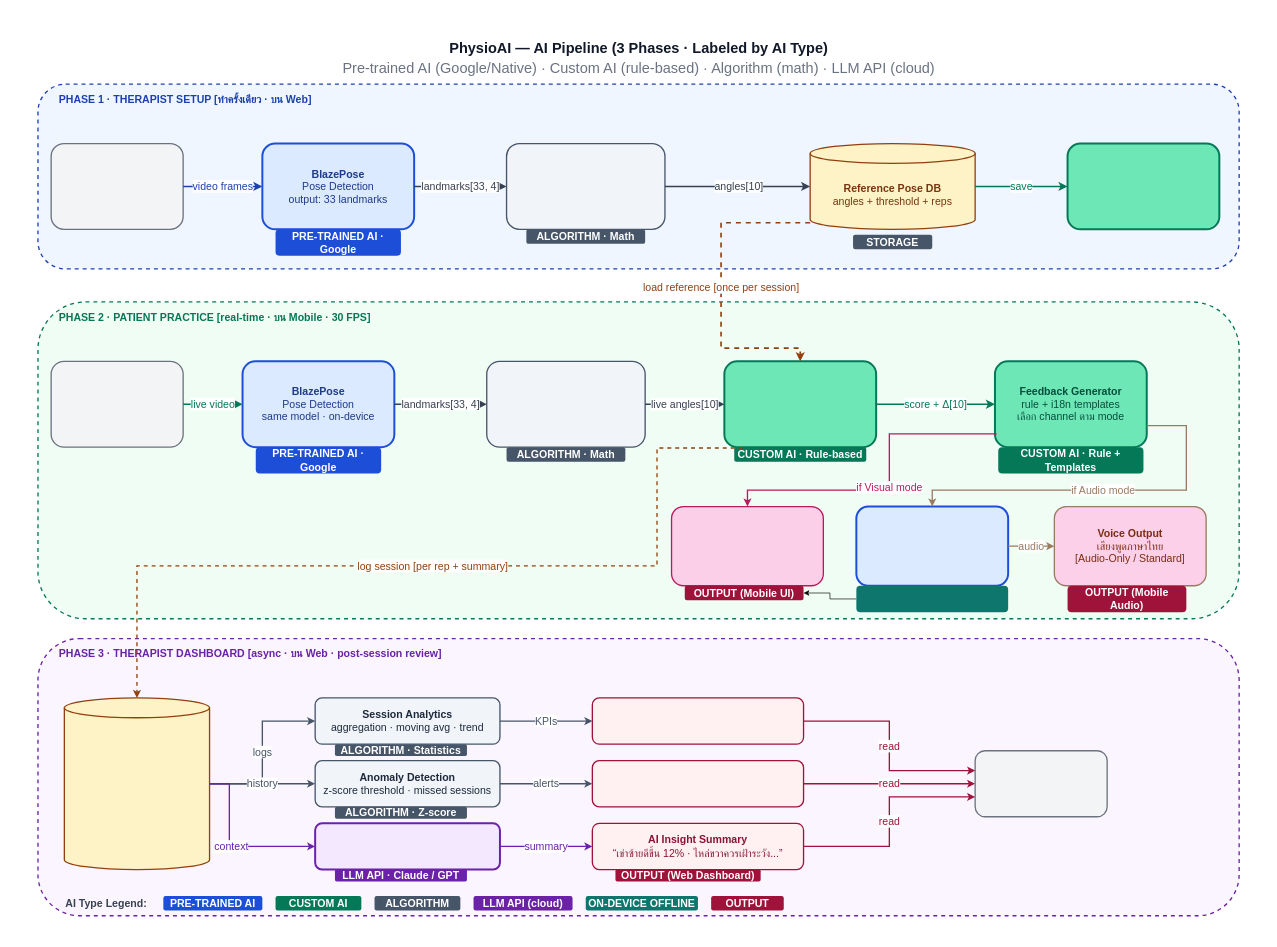
Image size: 1277x947. Some labels were removed from this diagram. Each missing label, with the centre of its shape:
"Alerts Panel low score · missed · trend ↓ · risk" goes at [697,783].
"Joint Angle Calculator landmarks → angles[10]" goes at [585,186].
"Joint Angle Calculator landmarks → live angles" goes at [565,403].
"KPI Cards Adherence% · Avg Score · Sessions · per-joint" goes at [697,720].
"LLM Summary Generator natural-language insight per patient" goes at [407,846].
"Patient ทำท่าหน้ากล้อง" goes at [116,403].
"Pose Comparator เทียบ live vs reference คำนวณ score + delta" goes at [800,404].
"PRE-TRAINED AI · ON-DEVICE (OFFLINE)" goes at [932,598].
"Session History DB keypoints · scores · rep logs · TTS log (เก็บจาก Phase 2)" goes at [136,783].
"Setup Complete พร้อมส่งให้ผู้ป่วยฝึก" goes at [1143,186].
"Thai TTS Engine text → Thai speech" goes at [932,545].
"Therapist review & adjust plan" goes at [1040,783].
"Therapist ถ่ายวิดีโอสาธิตท่า" goes at [116,186].
"Visual Output Skeleton + ลูกศร + ข้อความ [Visual-Only / Standard]" goes at [747,546].
